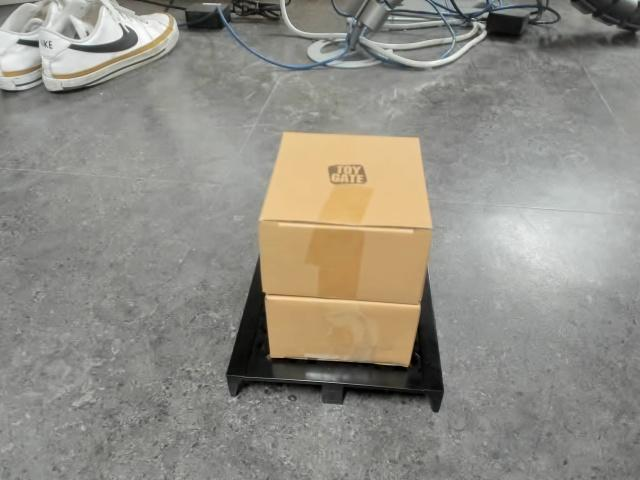box: (226, 131, 447, 415)
